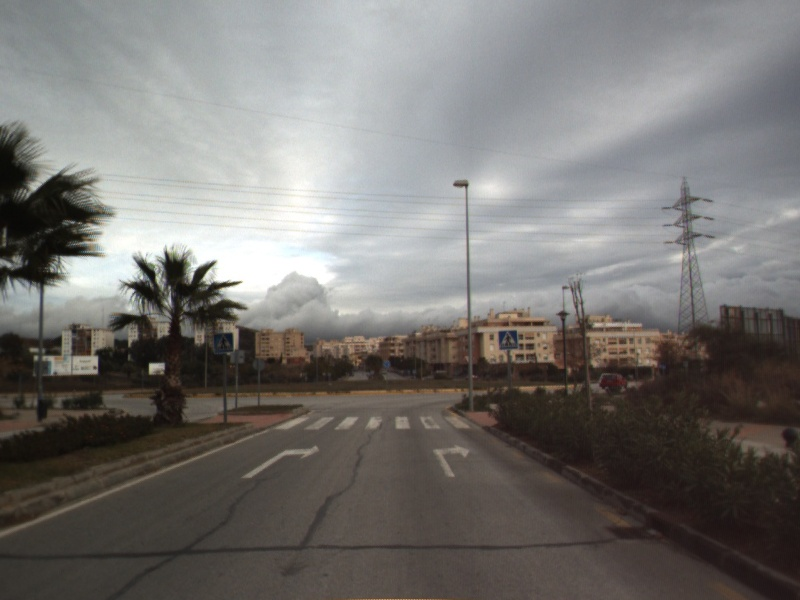RIGHT: (239, 443, 322, 480), (431, 442, 472, 479)
